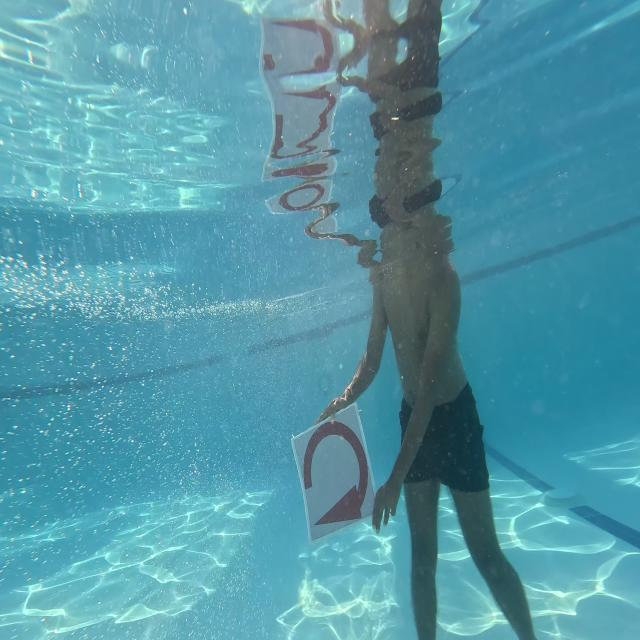red_side: (287, 424, 382, 536)
